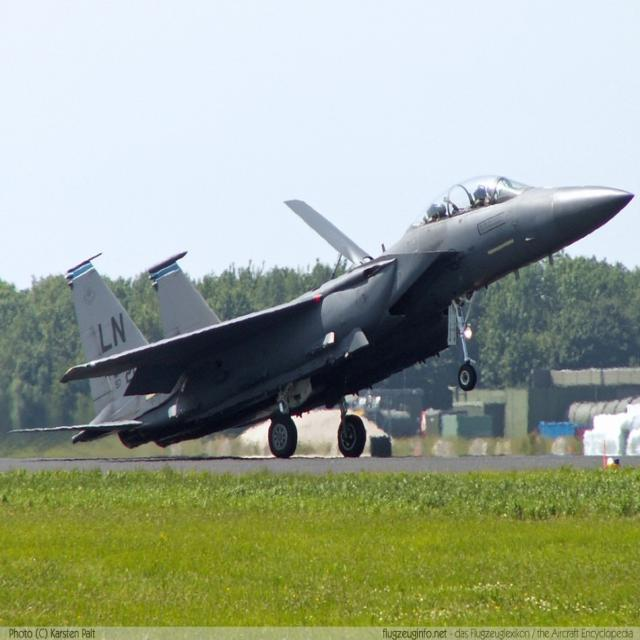F15: (39, 146, 640, 472)
